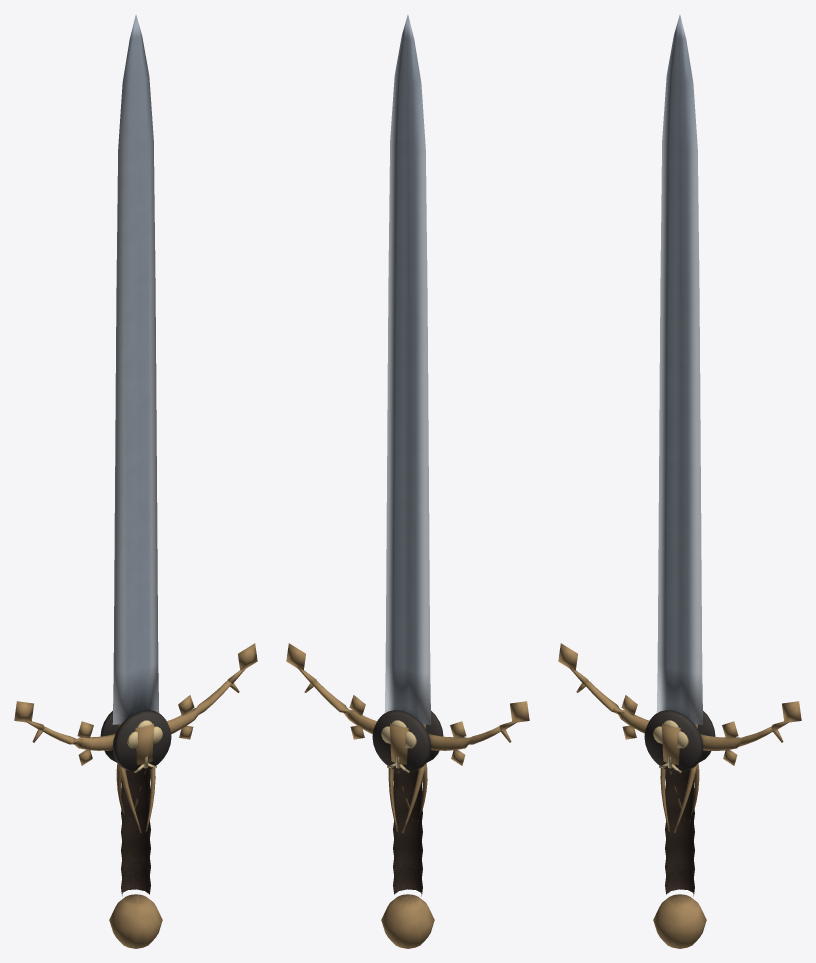
File: wp_espada_longa_b.glb
3 renders of one model, left to right at view 1: azimuth 30°, elevation 25°; view 2: azimuth 150°, elevation 25°; view 3: azimuth 330°, elevation 25°, orthographic.
Parts seen in each view (by area): view 1: wp_espada_longa_b; view 2: wp_espada_longa_b; view 3: wp_espada_longa_b.
Part boxes in pixels (x1,y1,x2,y2): wp_espada_longa_b: (14, 15, 257, 948); wp_espada_longa_b: (286, 15, 529, 948); wp_espada_longa_b: (558, 15, 801, 948).
Bounding box in the file's own units: 0.2728 × 1 × 0.052.
Materials: 1 (1 with a texture image).
